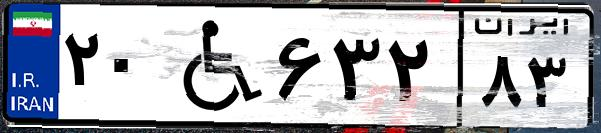0: (110, 28, 158, 98)
2: (385, 28, 445, 110), (57, 26, 110, 100)
3: (330, 28, 385, 110), (525, 38, 570, 115)
6: (270, 28, 330, 110)
8: (475, 38, 525, 113)
ژ (معلولین و جانبازان): (158, 12, 270, 120)
